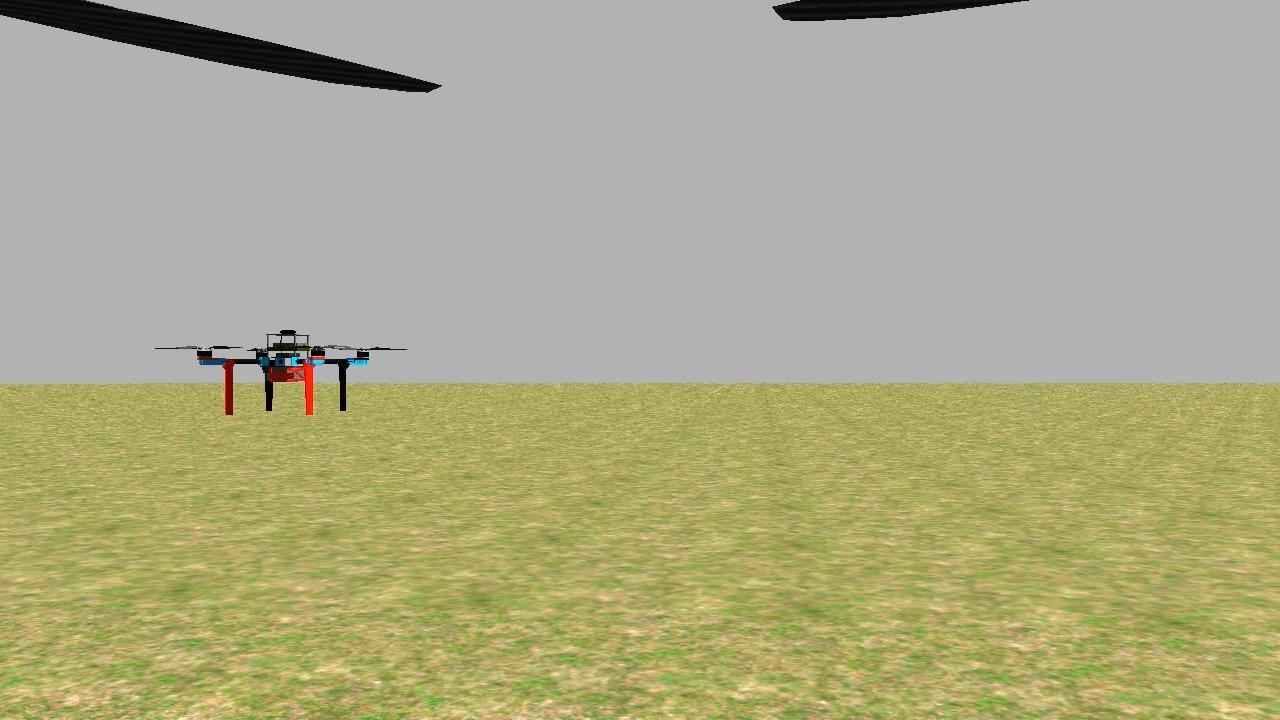UAV: (187, 305, 375, 434)
